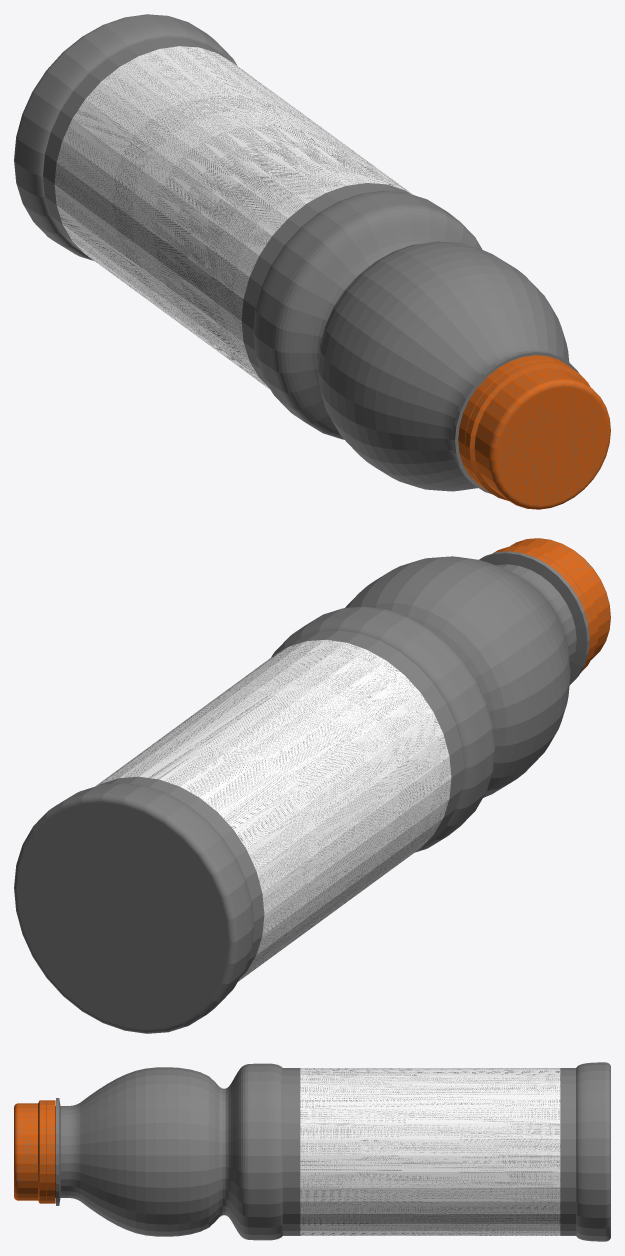
The picture shows the model from 3 angles, top to bottom: view 1: azimuth 30°, elevation 25°; view 2: azimuth 150°, elevation 25°; view 3: azimuth 270°, elevation 25°; orthographic projection. The views are drawn at different scales.
Parts seen in each view (by area): view 1: bottle; view 2: bottle; view 3: bottle.
Part boxes in pixels (x1=…): bottle: x1=14, y1=14, x2=610, y2=509; bottle: x1=14, y1=538, x2=610, y2=1033; bottle: x1=14, y1=1062, x2=610, y2=1241.
Bounding box in the file's own units: 18.78 × 18.78 × 62.48.
